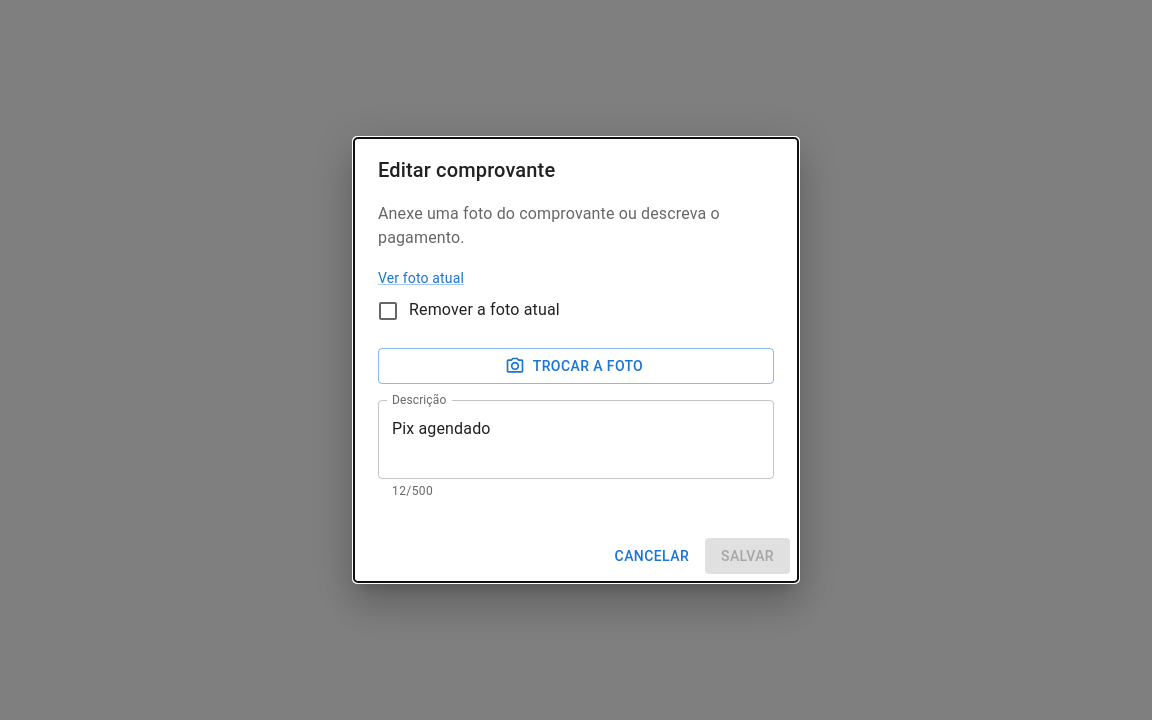
PaymentProofDialog in edit mode › removing the photo and then clearing the description disables Salvar
Click the checkbox labelled "Remover a foto atual" at (468, 310), box left=376, top=298, right=560, bottom=322
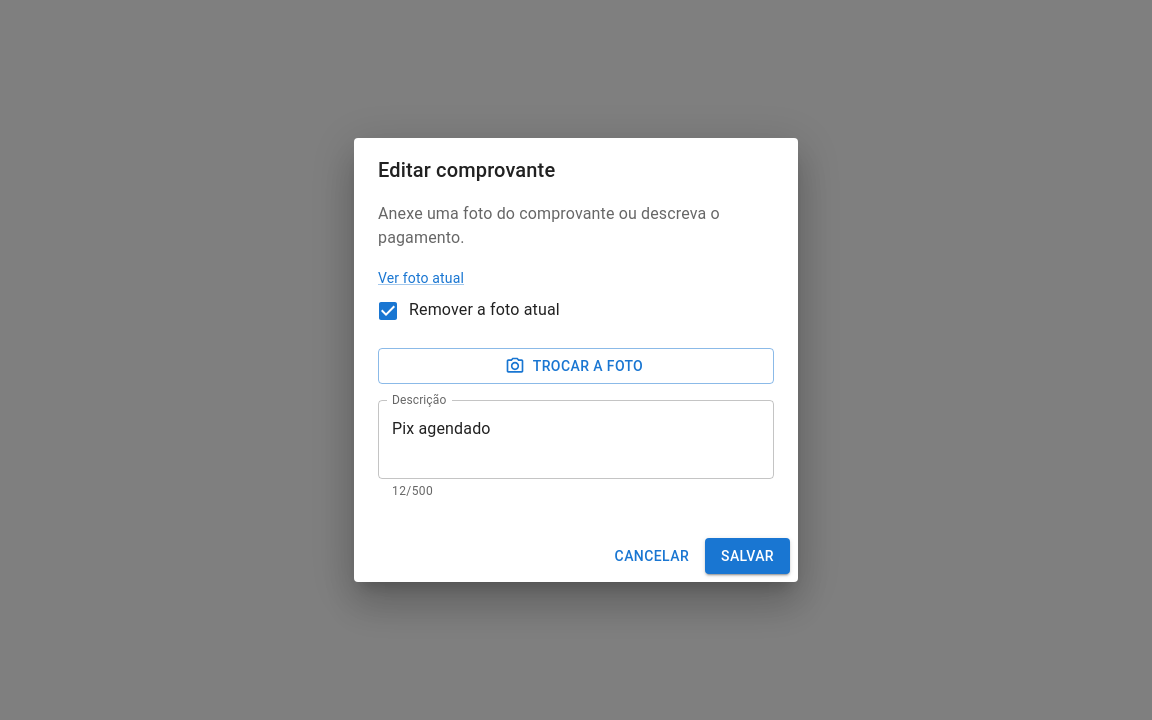
Check: the button "Salvar" is enabled, box left=705, top=538, right=790, bottom=574
Clear the text box labelled "Descrição" at (576, 440), box left=392, top=416, right=760, bottom=462
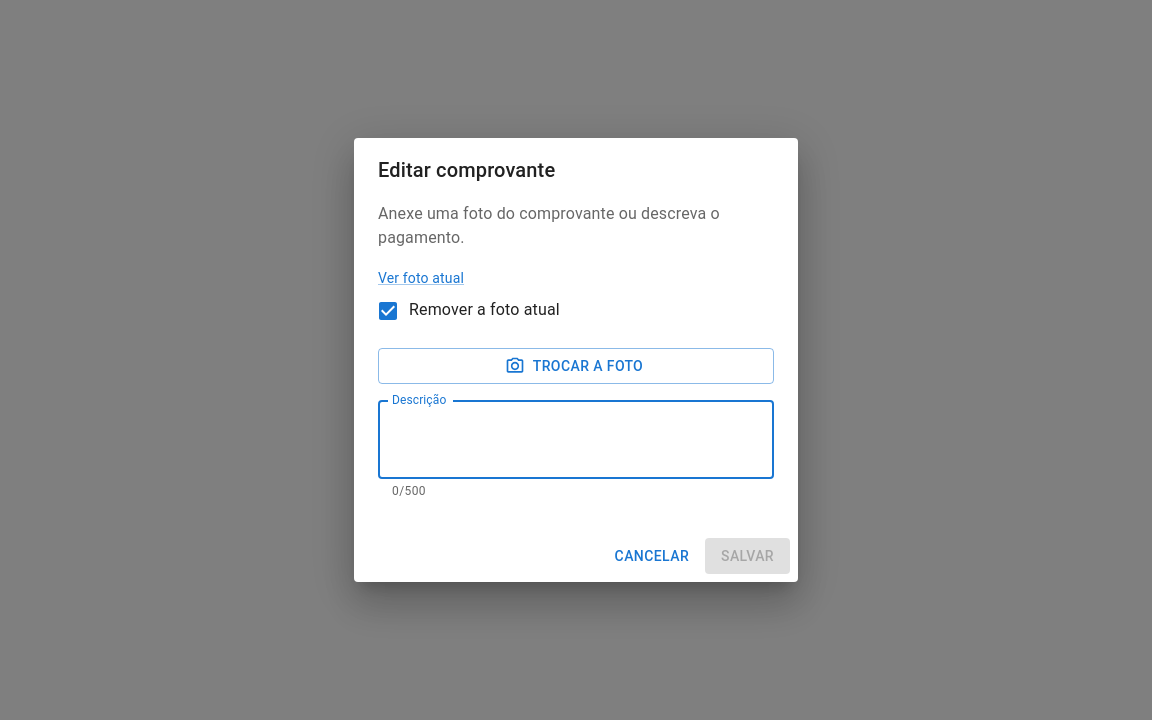
Check: the button "Salvar" is disabled, box left=705, top=538, right=790, bottom=574
